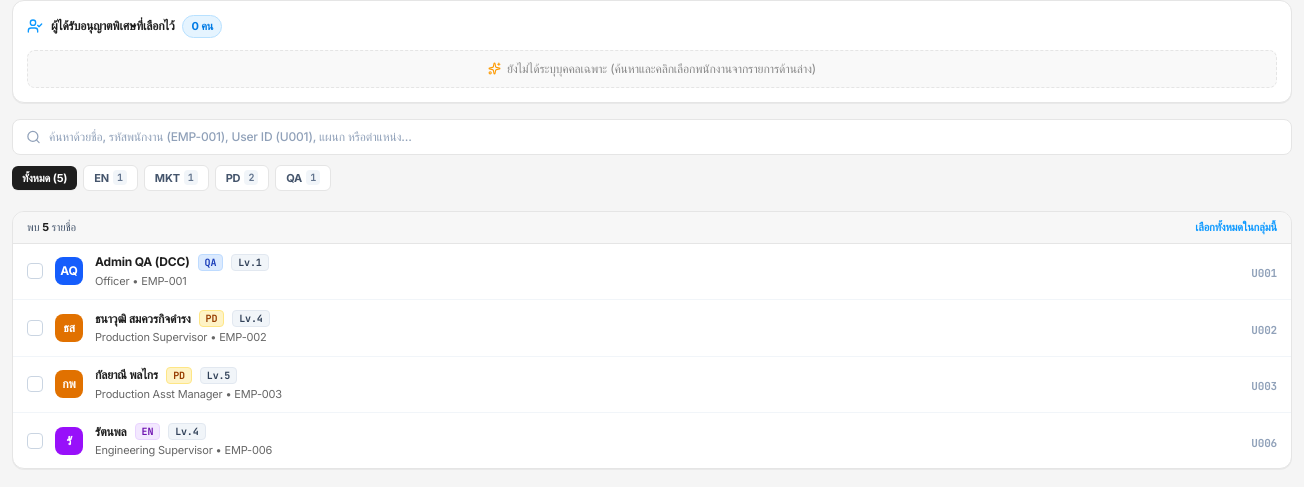
AuthorizedUsersSelector Component › filters users instantly by search term (name, ID, or position)
// Search by name
Replace the text in the field with placeholder "ค้นหาด้วยชื่อ" with "รัตนพล" at (652, 136), box [12, 118, 1292, 154]
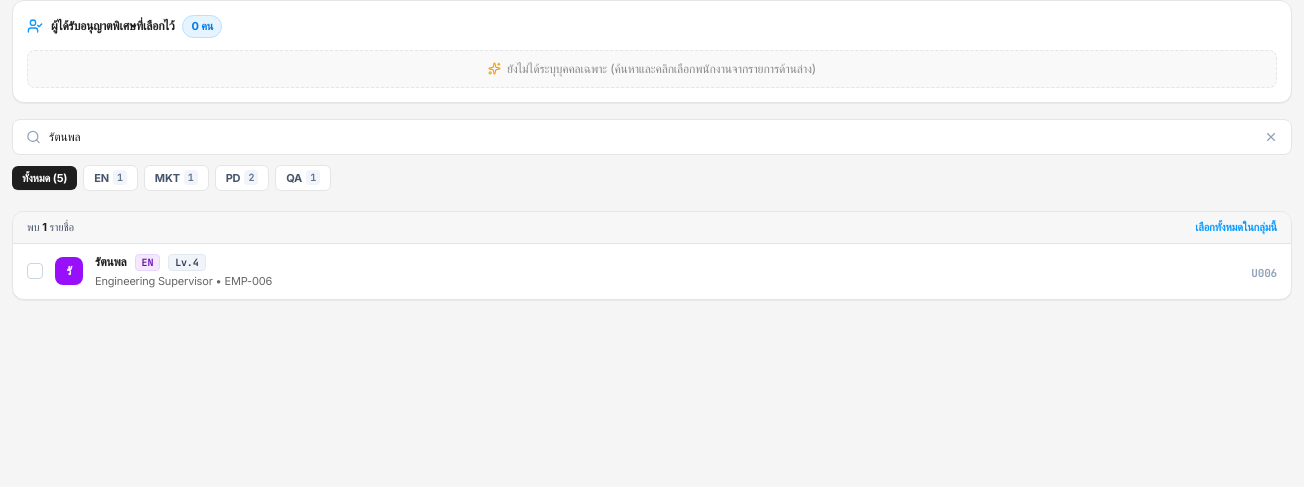
Expected: the text "รัตนพล" is shown, [95, 254, 127, 270]
Expected: the text "สมชาย การตลาด" is not shown
// Search by User ID
Replace the text in the field with placeholder "ค้นหาด้วยชื่อ" with "U010" at (652, 136), box [12, 118, 1292, 154]
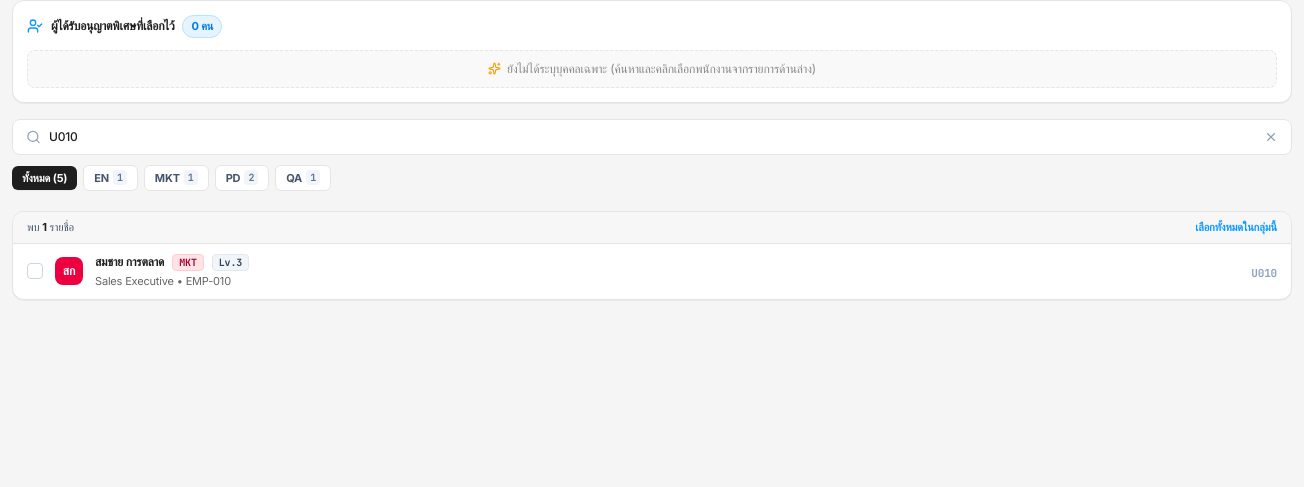
Result: the text "สมชาย การตลาด" is shown at [95, 254, 164, 270]
Result: the text "รัตนพล" is gone
// Search with no results
Replace the text in the field with placeholder "ค้นหาด้วยชื่อ" with "XYZ999" at (652, 136), box [12, 118, 1292, 154]
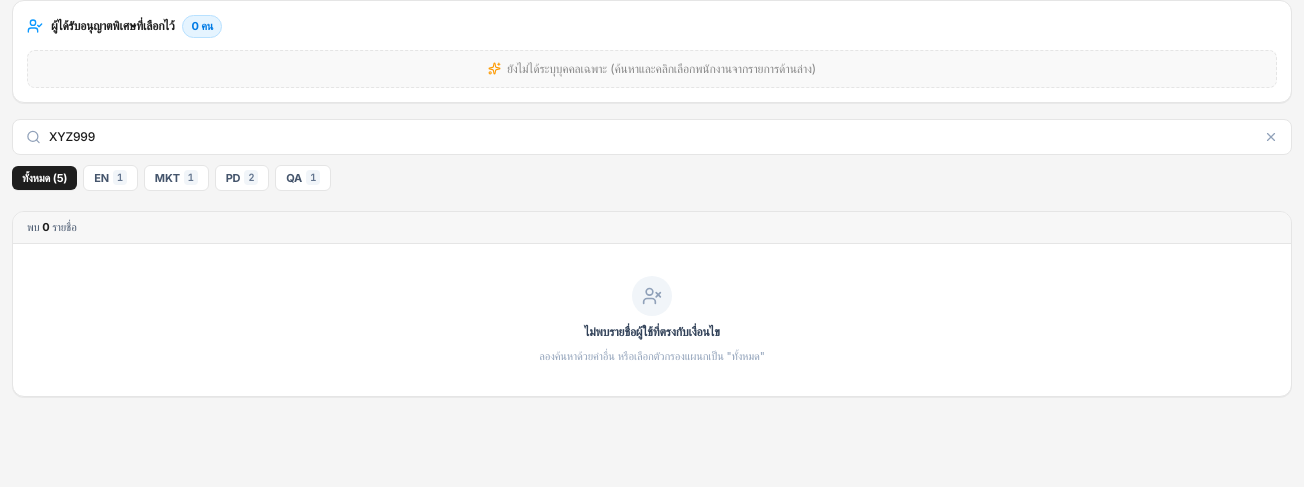
Result: the text "ไม่พบรายชื่อผู้ใช้ที่ตรงกับเงื่อนไข" is shown at [584, 324, 720, 339]
